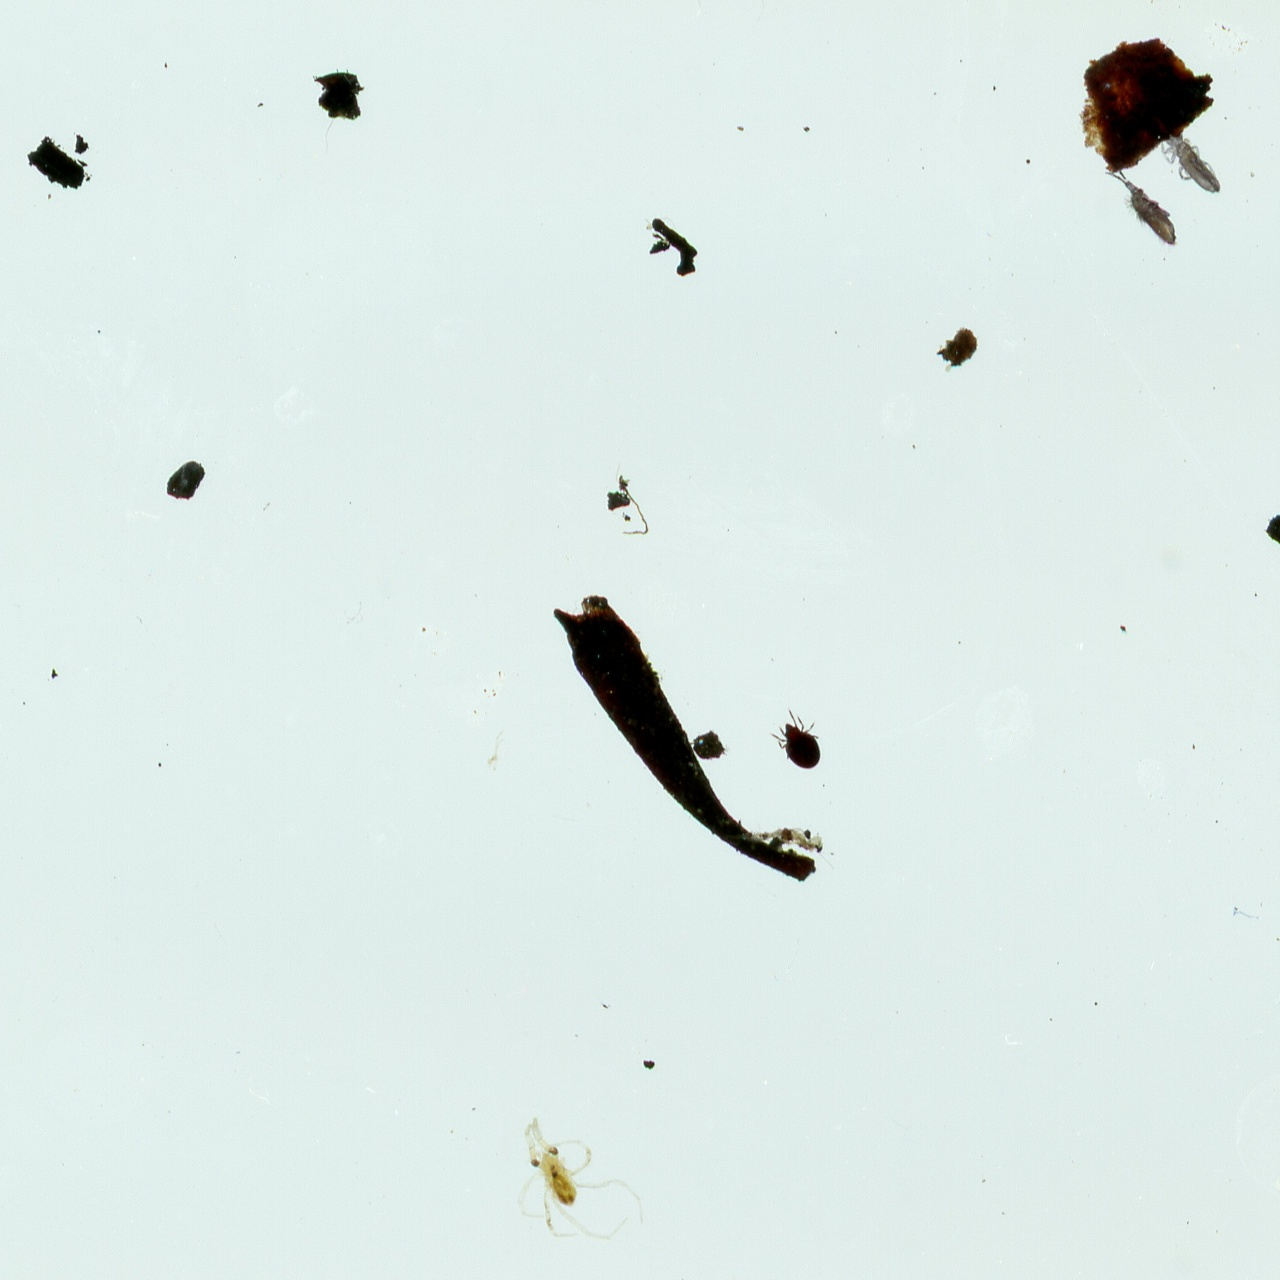arthropod: (503, 1107, 659, 1257), (1093, 143, 1201, 271), (1142, 108, 1238, 217), (768, 705, 835, 777)
